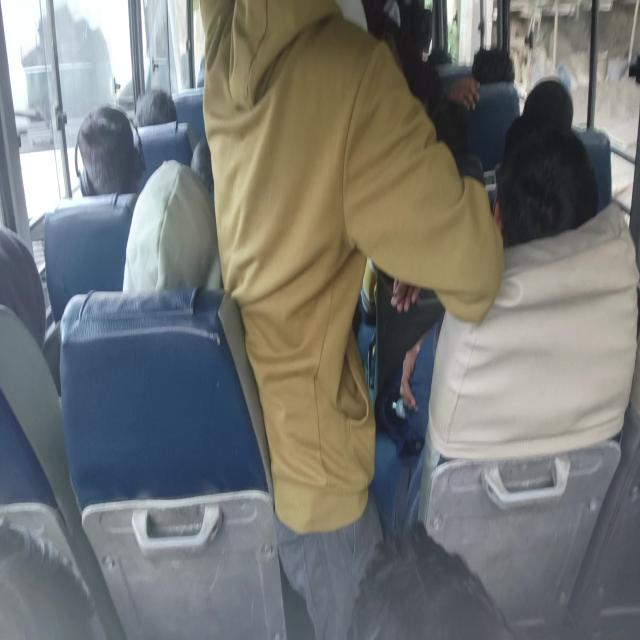person: (197, 1, 506, 637), (74, 104, 145, 196), (134, 87, 178, 127)
